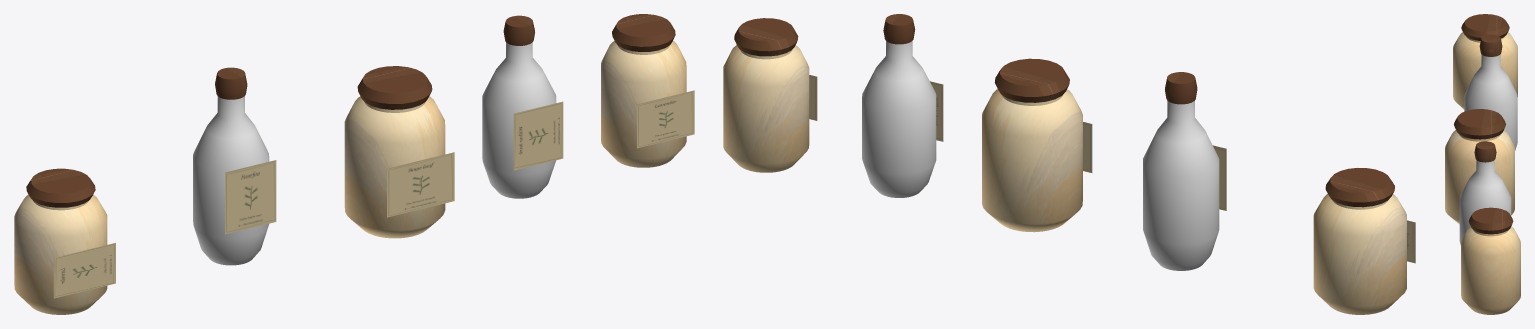
Rendered from CM_HR02_StockCourse3.fbx.
The picture shows the model from 3 angles, left to right: view 1: azimuth 30°, elevation 25°; view 2: azimuth 150°, elevation 25°; view 3: azimuth 270°, elevation 25°; orthographic projection. The views are drawn at different scales.
Visible parts, largest first — view 1: CM_HR02_StockCourse3; view 2: CM_HR02_StockCourse3; view 3: CM_HR02_StockCourse3.
Boxes of the visible parts, <box> form: CM_HR02_StockCourse3: <box>14,14,694,314</box>; CM_HR02_StockCourse3: <box>723,14,1415,314</box>; CM_HR02_StockCourse3: <box>1445,14,1520,314</box>.
Size of the model in its own units: 1.45 by 0.38 by 0.2084.
